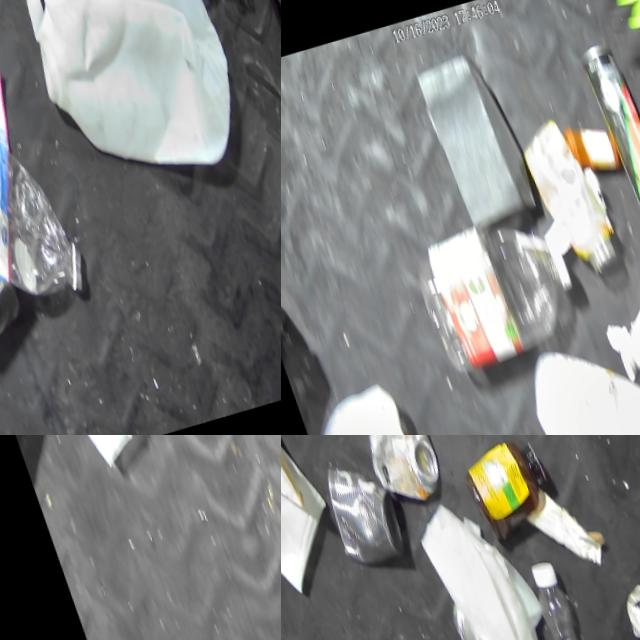can: (574, 38, 640, 255), (306, 449, 401, 574), (348, 435, 437, 509), (606, 581, 640, 640)
milk_jug: (0, 0, 256, 210), (398, 487, 552, 640), (505, 322, 640, 435), (286, 376, 444, 435)
plastic_bottle: (397, 207, 586, 379), (0, 107, 88, 323), (512, 559, 582, 640)
